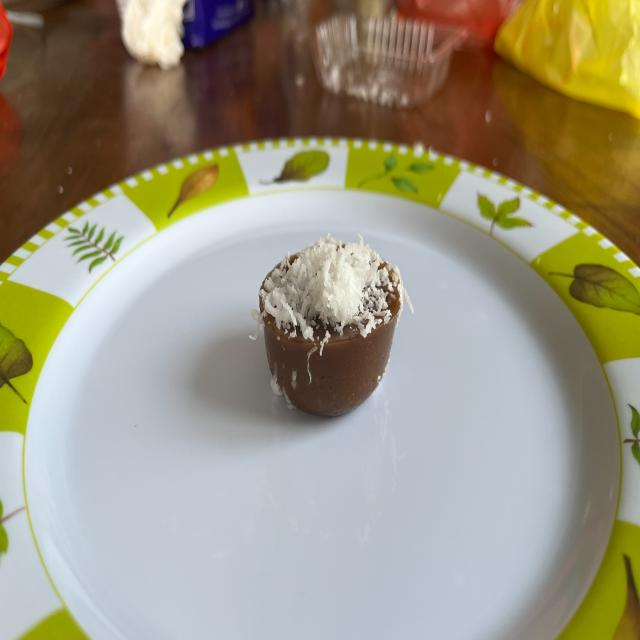Kuih lompang: (251, 233, 414, 416)
